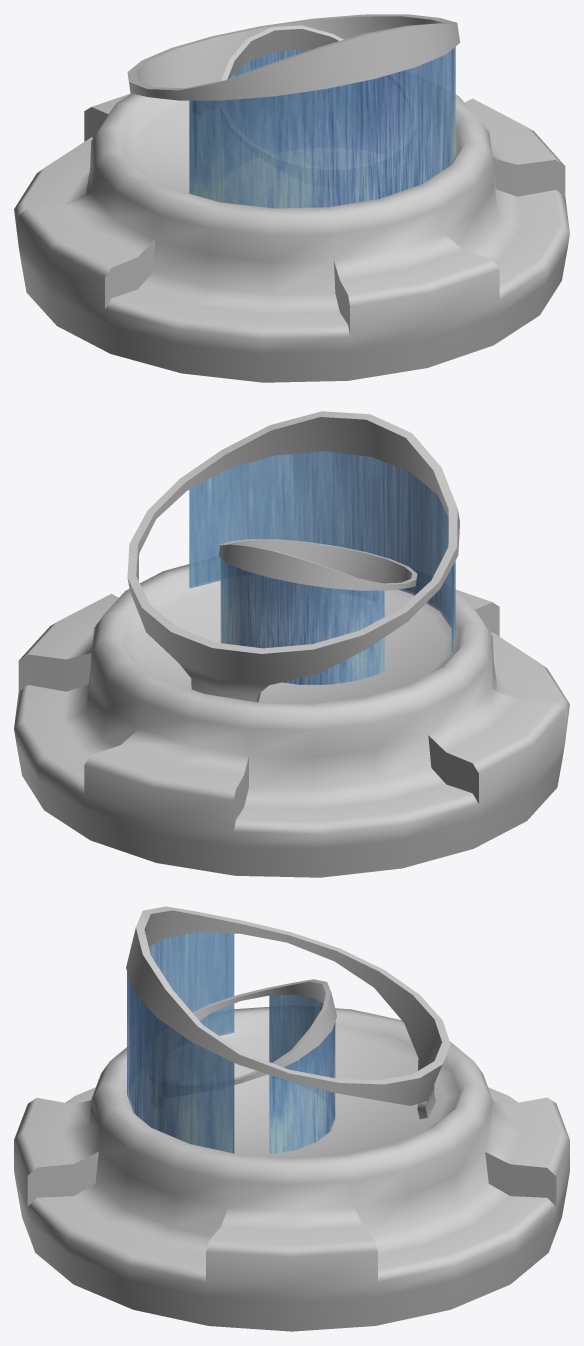
File: 04_BryanvdLinden_UHDF-fountain.fbx
3 renders of one model, top to bottom at view 1: azimuth 30°, elevation 25°; view 2: azimuth 150°, elevation 25°; view 3: azimuth 270°, elevation 25°, orthographic.
Parts seen in each view (by area): view 1: waterfalls2; view 2: waterfalls2; view 3: waterfalls2.
Part boxes in pixels (left/top/right/bottom): waterfalls2: left=14, top=14, right=569, bottom=382; waterfalls2: left=14, top=411, right=569, bottom=877; waterfalls2: left=14, top=906, right=569, bottom=1331.
Size of the model in its own units: 37.3 by 21.49 by 37.3.
